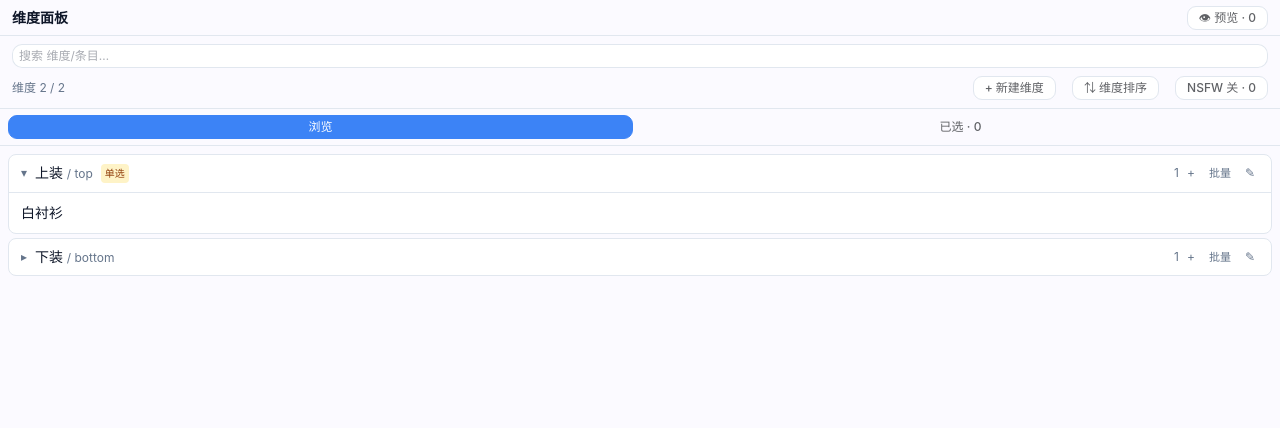
DimensionPanel — need06 展开保留/裁剪/持久化与写后不折叠 › 搜索过滤不影响 expandedKeys，清空搜索后展开恢复可见
Expected: the button with test id "module-row-m_top_1" is shown, [13,196,1267,228]
In the field with test id "dimension-search": (640, 56) [19,45,1261,67], type "不存在的关键词"
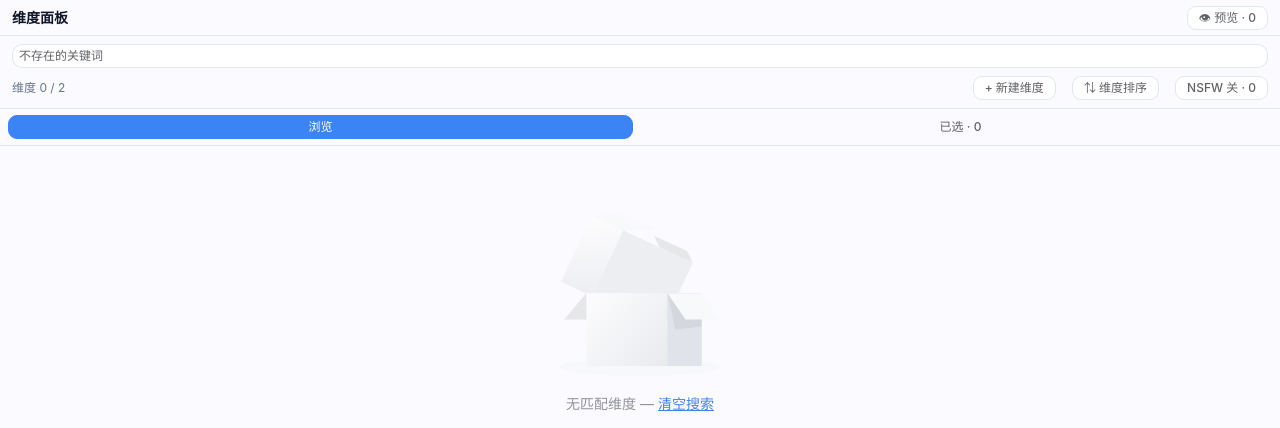
Clear the field with test id "dimension-search": (640, 56) [19,45,1261,67]
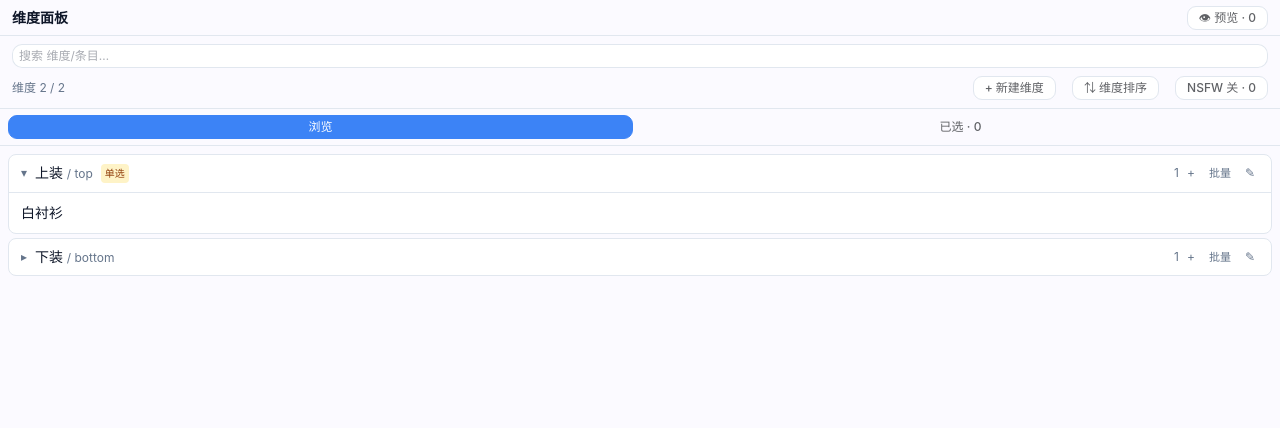
Expected: the button with test id "module-row-m_top_1" is shown, [13,196,1267,228]
